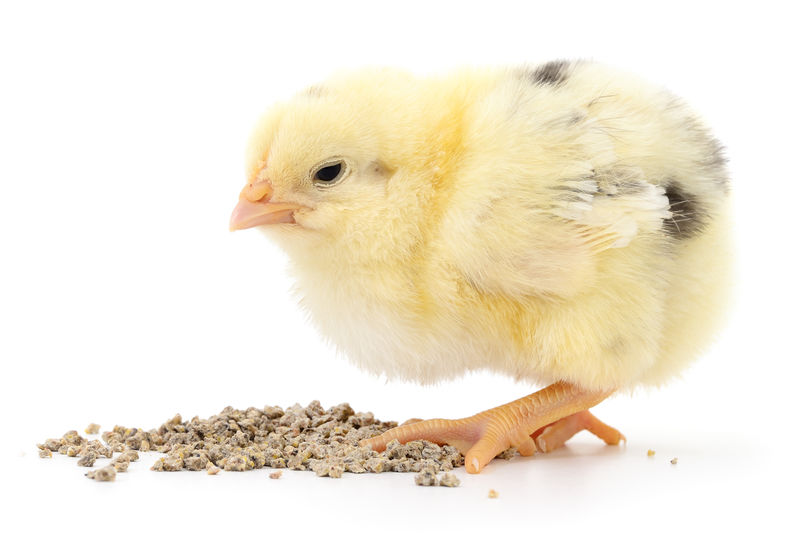hen: (227, 50, 746, 475)
